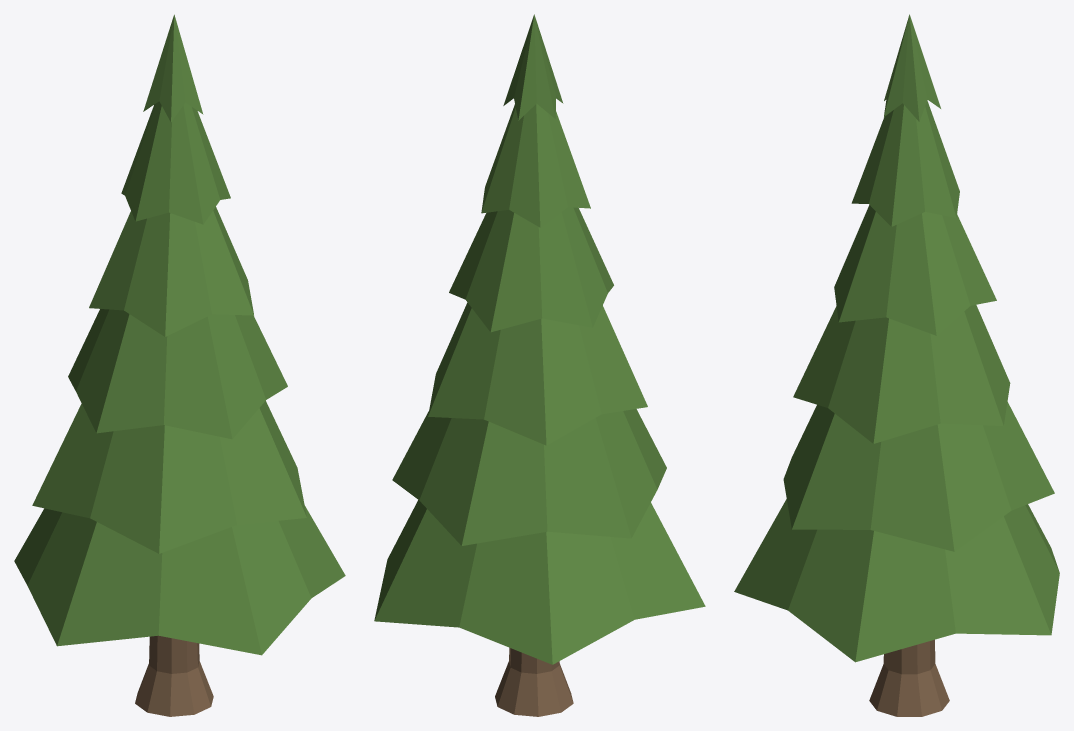
The model's file is SingleTree1.glb.
3 views of the same model, side by side, from view 1: azimuth 30°, elevation 25°; view 2: azimuth 150°, elevation 25°; view 3: azimuth 270°, elevation 25° (orthographic).
Parts seen in each view (by area): view 1: Tree3; view 2: Tree3; view 3: Tree3.
Part boxes in pixels (box(x1,y1,x2,y2)): Tree3: box(14, 14, 345, 716); Tree3: box(374, 14, 705, 716); Tree3: box(734, 14, 1059, 716).
Size of the model in its own units: 5.67 by 12.88 by 5.54.
